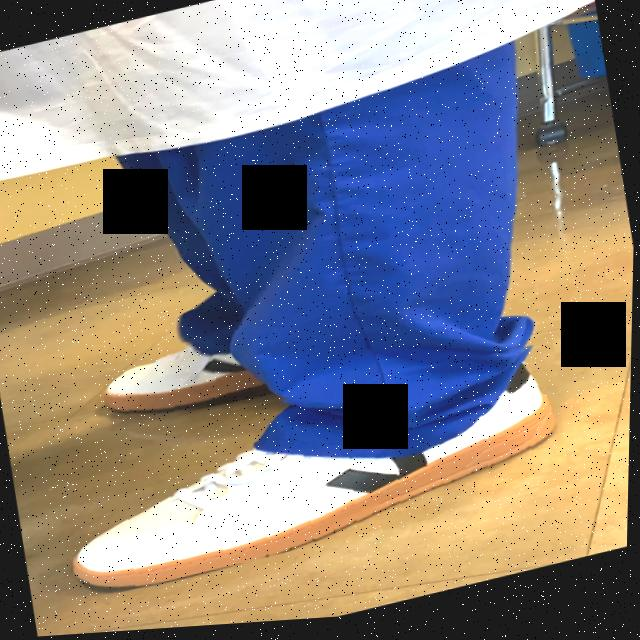shoe: (49, 335, 580, 606), (98, 325, 281, 433)
